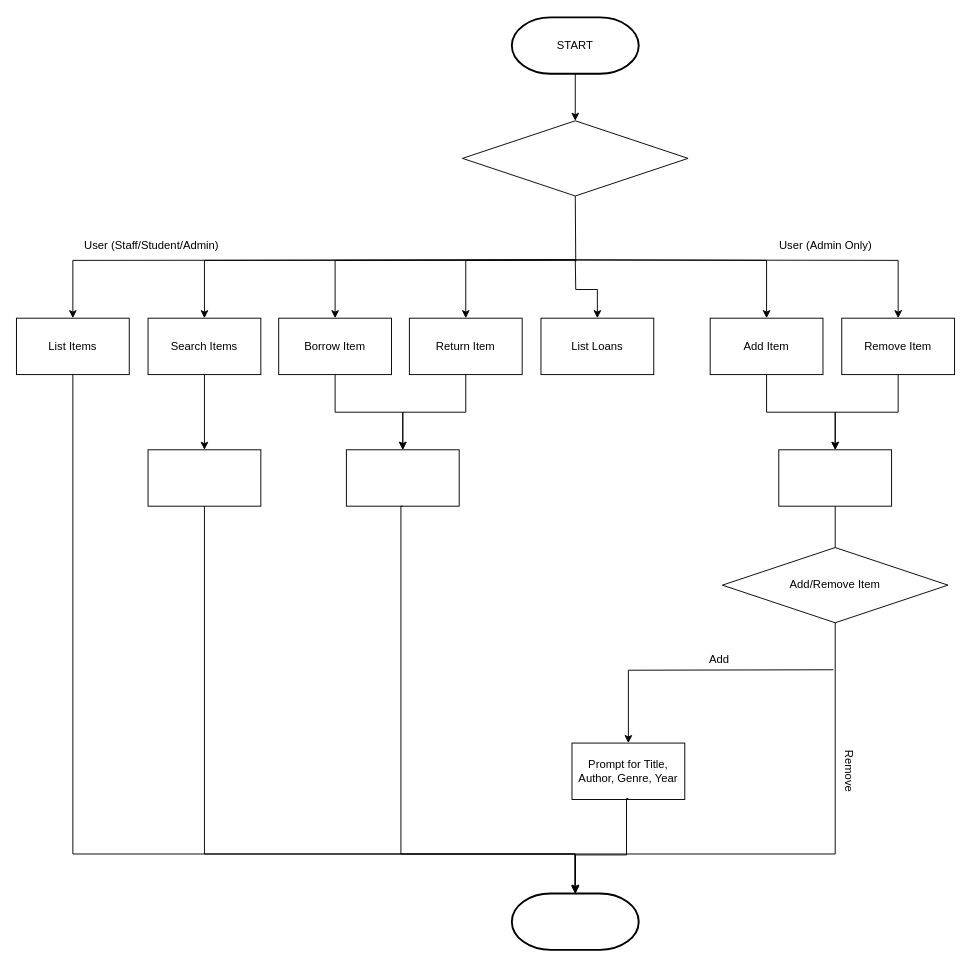
This 971x966 diagram has some shape labels left out. Here are the shapes that lost their labels. From the top down, the box of each, then its label:
(462, 120, 688, 196): Prompt for Menu Option
(147, 449, 261, 506): Prompt for Title
(345, 449, 459, 506): Prompt for Member ID and ISBN
(778, 449, 892, 506): Prompt for Admin ID and ISBN
(510, 892, 639, 950): END
